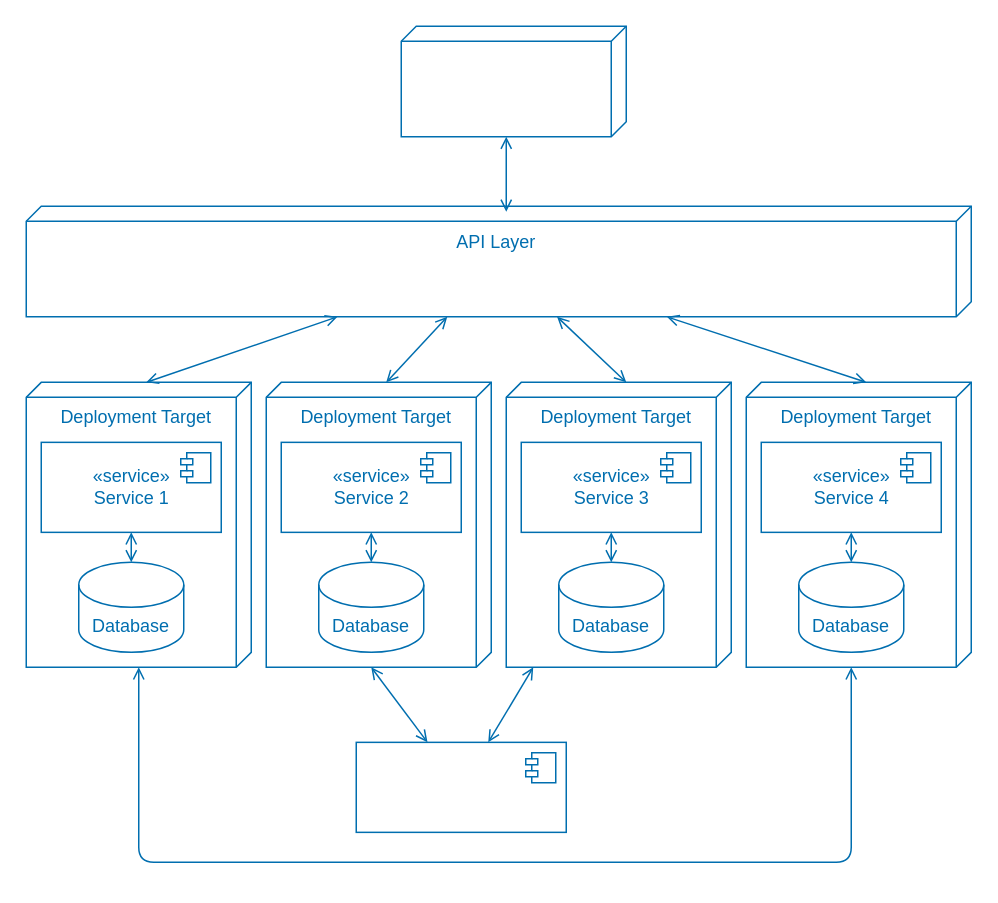
Some shapes in this 998 by 903 pixel diagram are drawn without their labels. The shapes that lost their labels are listed below. From the top down, each one's centre as x and y in pixels, then its label:
At (513,81): "Client".
At (460,786): "«queue» Messaging Queue".
